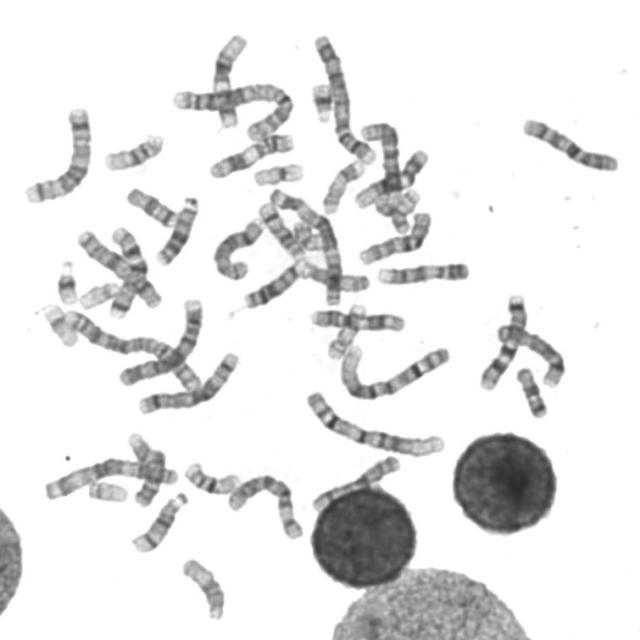A1: (300, 384, 449, 458), (333, 337, 453, 401)
A2: (60, 305, 204, 393), (167, 77, 296, 142)
A3: (263, 182, 345, 308), (37, 450, 180, 502)
B4: (308, 28, 378, 167), (113, 295, 205, 388)
B5: (19, 101, 94, 206), (133, 346, 243, 415)
C10: (516, 111, 622, 175), (353, 205, 435, 267)
C11: (204, 128, 296, 180), (304, 304, 407, 334)
C12: (349, 143, 431, 210), (207, 28, 250, 130)
C6: (222, 469, 306, 541), (357, 117, 408, 219)
C7: (474, 287, 531, 392), (102, 222, 148, 320)
C8: (489, 318, 568, 390), (208, 212, 266, 282)
C9: (120, 426, 166, 509), (371, 256, 473, 287)
D13: (238, 254, 309, 311), (148, 190, 201, 266)
D14: (125, 487, 189, 555), (252, 197, 307, 261)
D15: (176, 552, 228, 622), (295, 255, 371, 294)
E16: (98, 127, 166, 172), (179, 456, 241, 496)
E17: (317, 154, 368, 216), (322, 297, 368, 361)
E18: (121, 181, 180, 229), (510, 362, 550, 420)
F19: (36, 297, 80, 348), (247, 157, 307, 188)
F20: (388, 186, 422, 236), (292, 219, 328, 251)
G21: (51, 254, 80, 306), (306, 76, 337, 124)
G22: (74, 276, 122, 311), (81, 474, 130, 504)
X: (306, 451, 404, 515)
